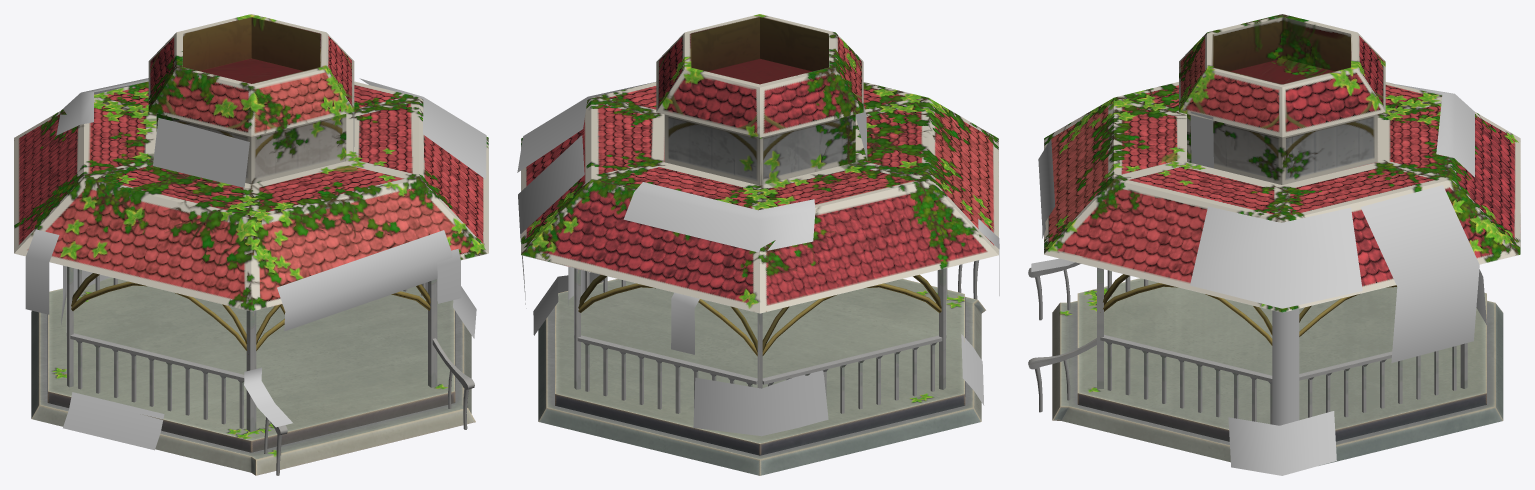
File: SM_Gazebo.fbx
The picture shows the model from 3 angles, left to right: view 1: azimuth 30°, elevation 25°; view 2: azimuth 150°, elevation 25°; view 3: azimuth 270°, elevation 25°; orthographic projection.
Parts seen in each view (by area): view 1: SM_Gazebo_LOD0; view 2: SM_Gazebo_LOD0; view 3: SM_Gazebo_LOD0.
Part boxes in pixels (box(x1,y1,x2,y2)): SM_Gazebo_LOD0: box(14, 14, 488, 475); SM_Gazebo_LOD0: box(517, 14, 999, 475); SM_Gazebo_LOD0: box(1028, 14, 1520, 475).
Size of what is drawn, in the model's own units: 772 by 495 by 691.
